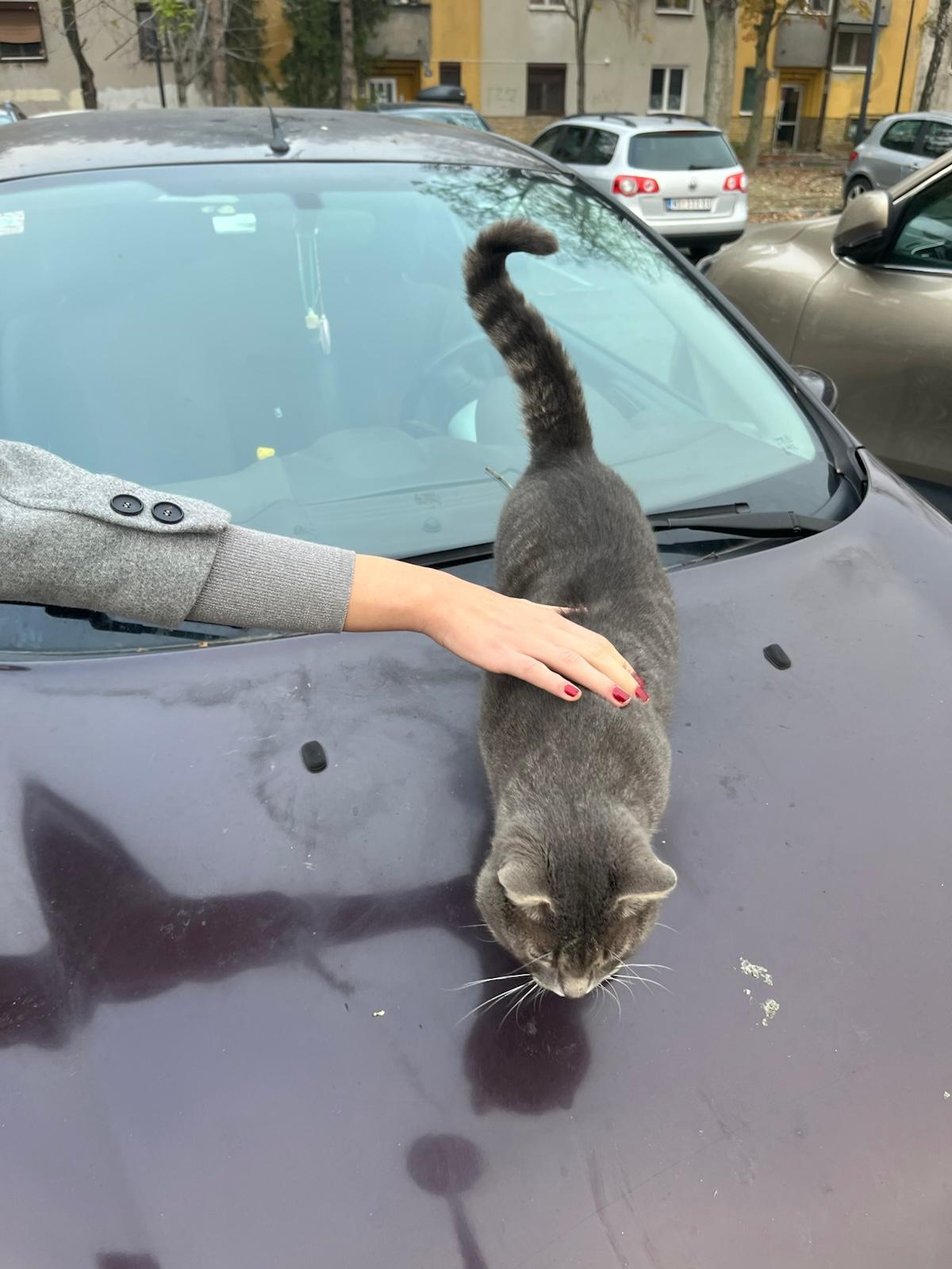macka: (463, 222, 678, 999)
